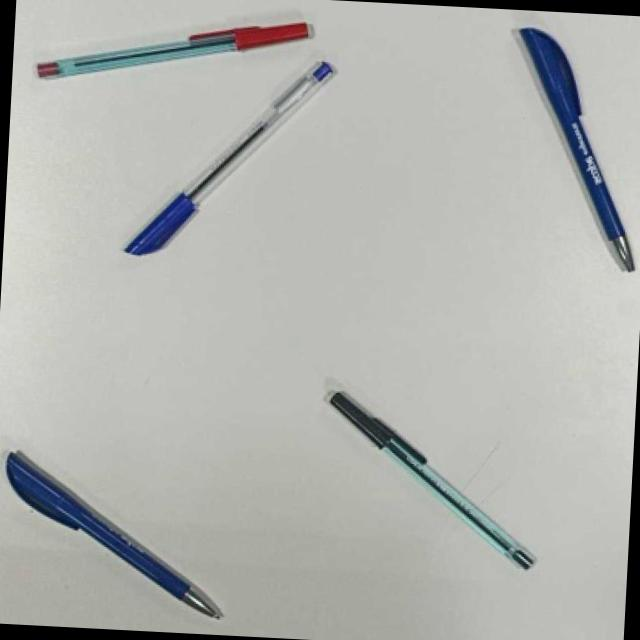caneta: (123, 56, 338, 268), (0, 452, 226, 635), (327, 387, 540, 572), (518, 17, 640, 275), (36, 17, 309, 82)
